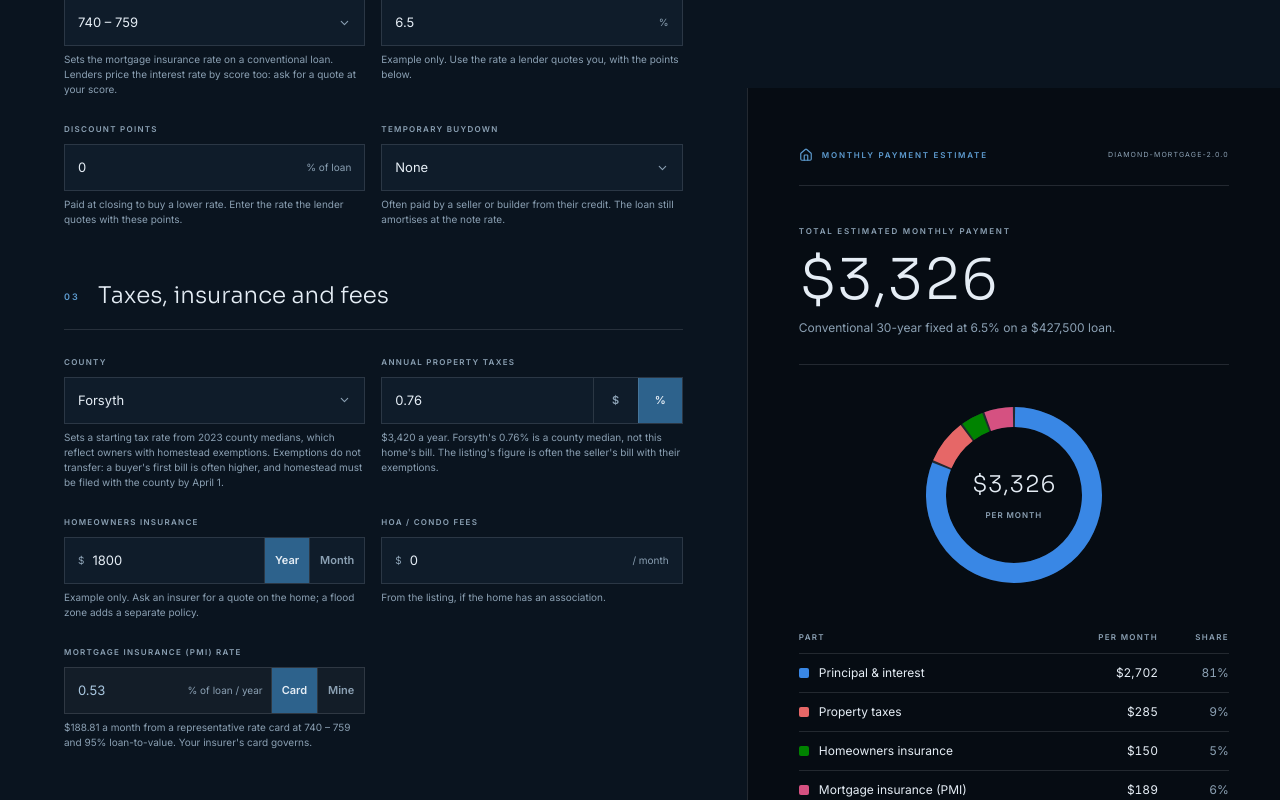
Test: a county sets the tax rate as a labelled median; typing a figure takes over
The image size is (1280, 800).
(page scrolled)
Click the button "$" at (616, 400), box [594,378,638,423]
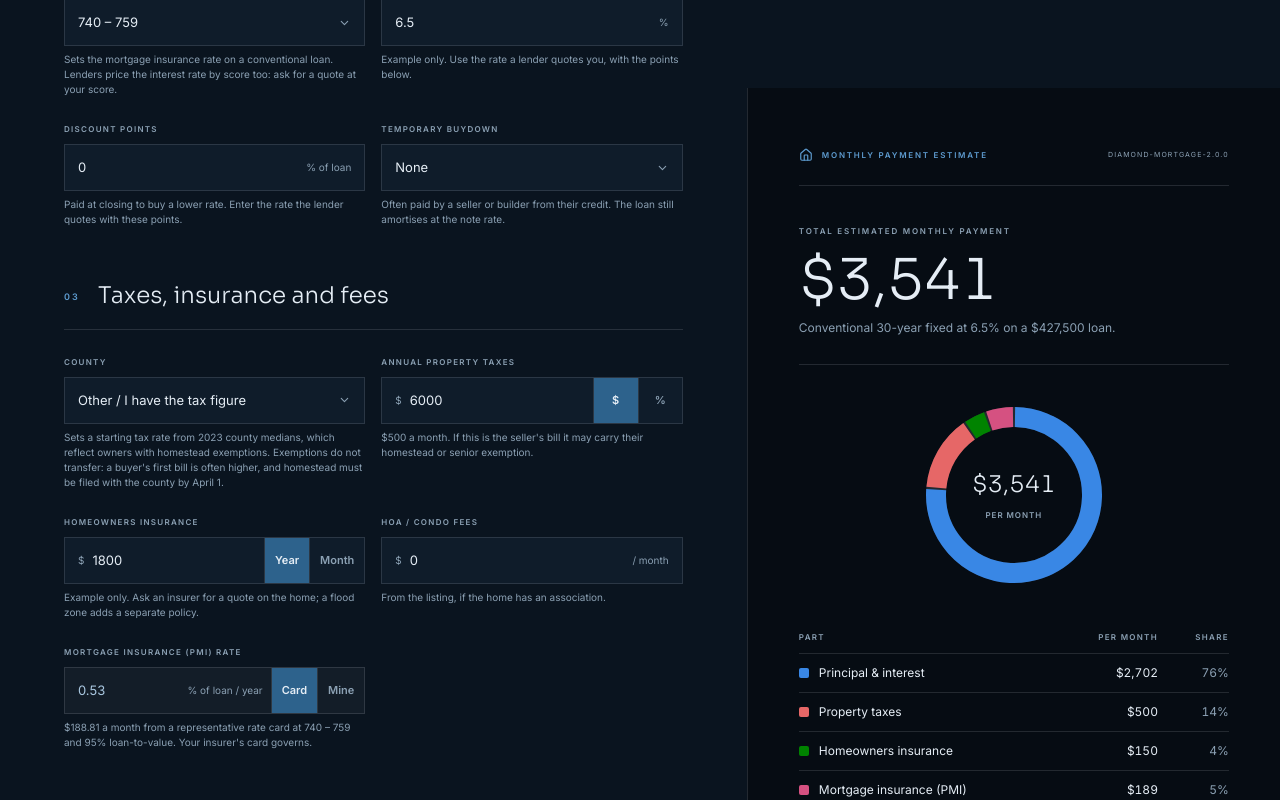
Expected: the text "$500 a month. If this is the seller's bill it may carry their homestead or senior exemption." is shown, [381,431,643,458]
